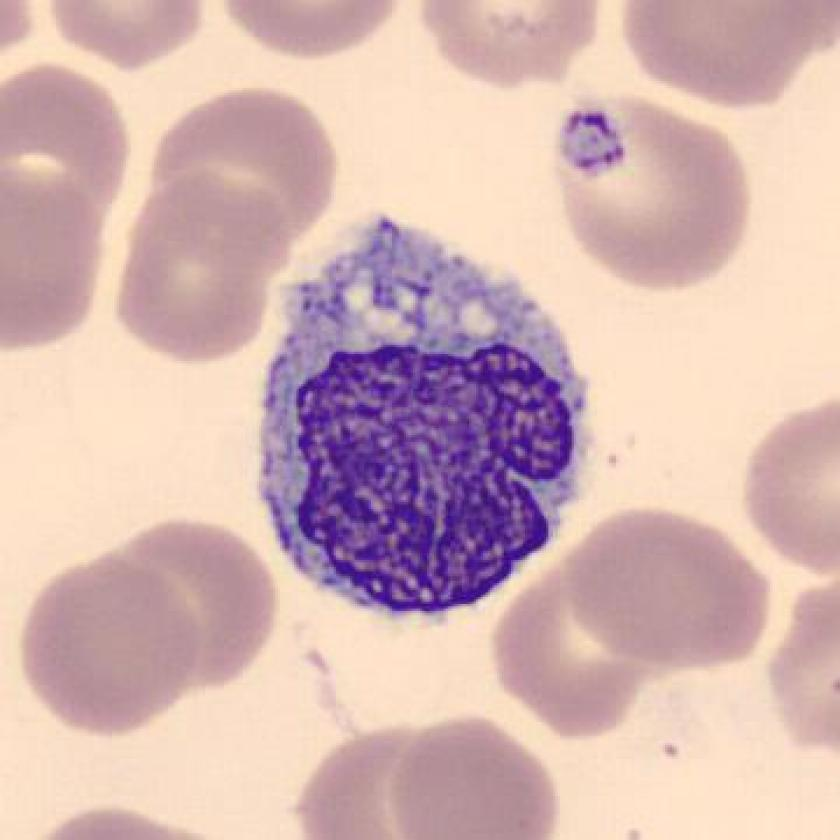monocyte: (237, 200, 615, 642)
